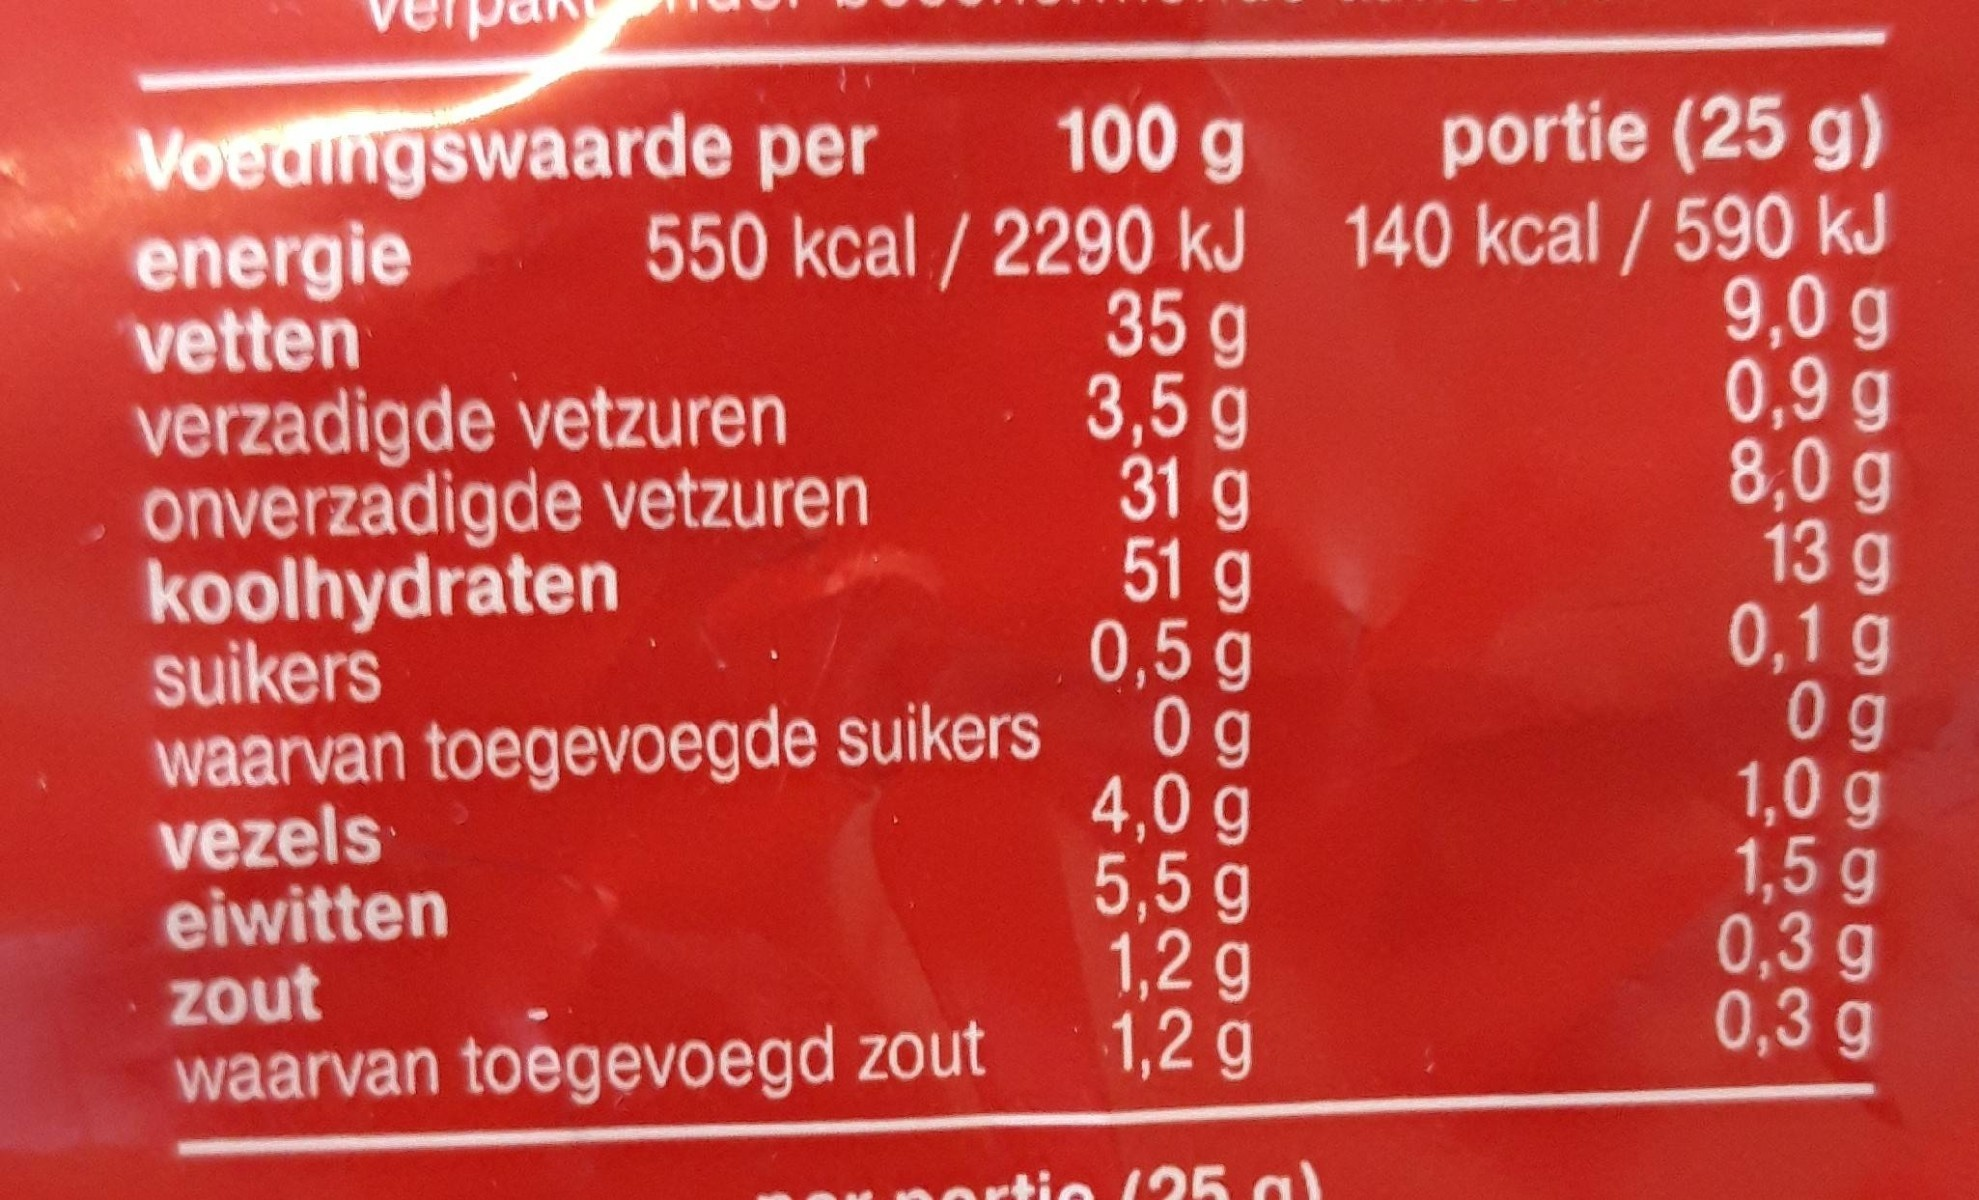column: (140, 100, 1259, 1127), (1339, 96, 1891, 1093)
table: (116, 48, 1904, 1176)
